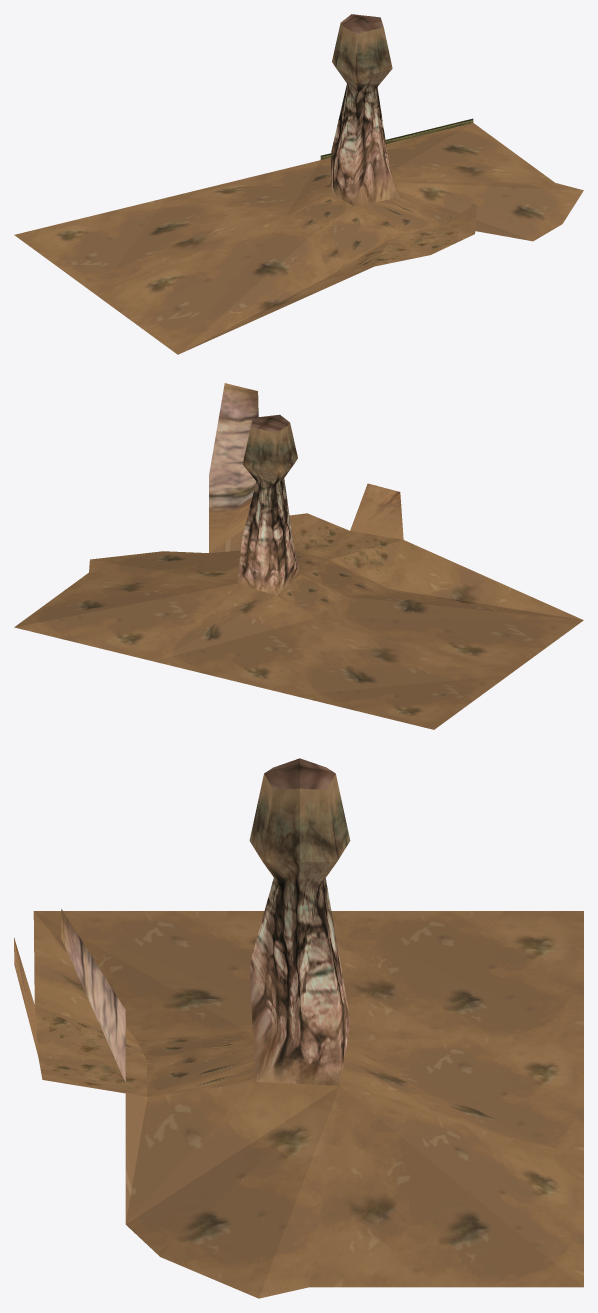
3 views of the same model, one above another, from view 1: azimuth 30°, elevation 25°; view 2: azimuth 150°, elevation 25°; view 3: azimuth 270°, elevation 25° (orthographic). The views are drawn at different scales.
Parts seen in each view (by area): view 1: Object16; view 2: Object16; view 3: Object16.
Boxes of the visible parts, left/top/right/bottom form: Object16: left=14, top=14, right=583, bottom=354; Object16: left=14, top=383, right=583, bottom=729; Object16: left=14, top=758, right=583, bottom=1298.
Bounding box in the file's own units: 7130 × 3090 × 4430.
Materials: 5 (5 with a texture image).
